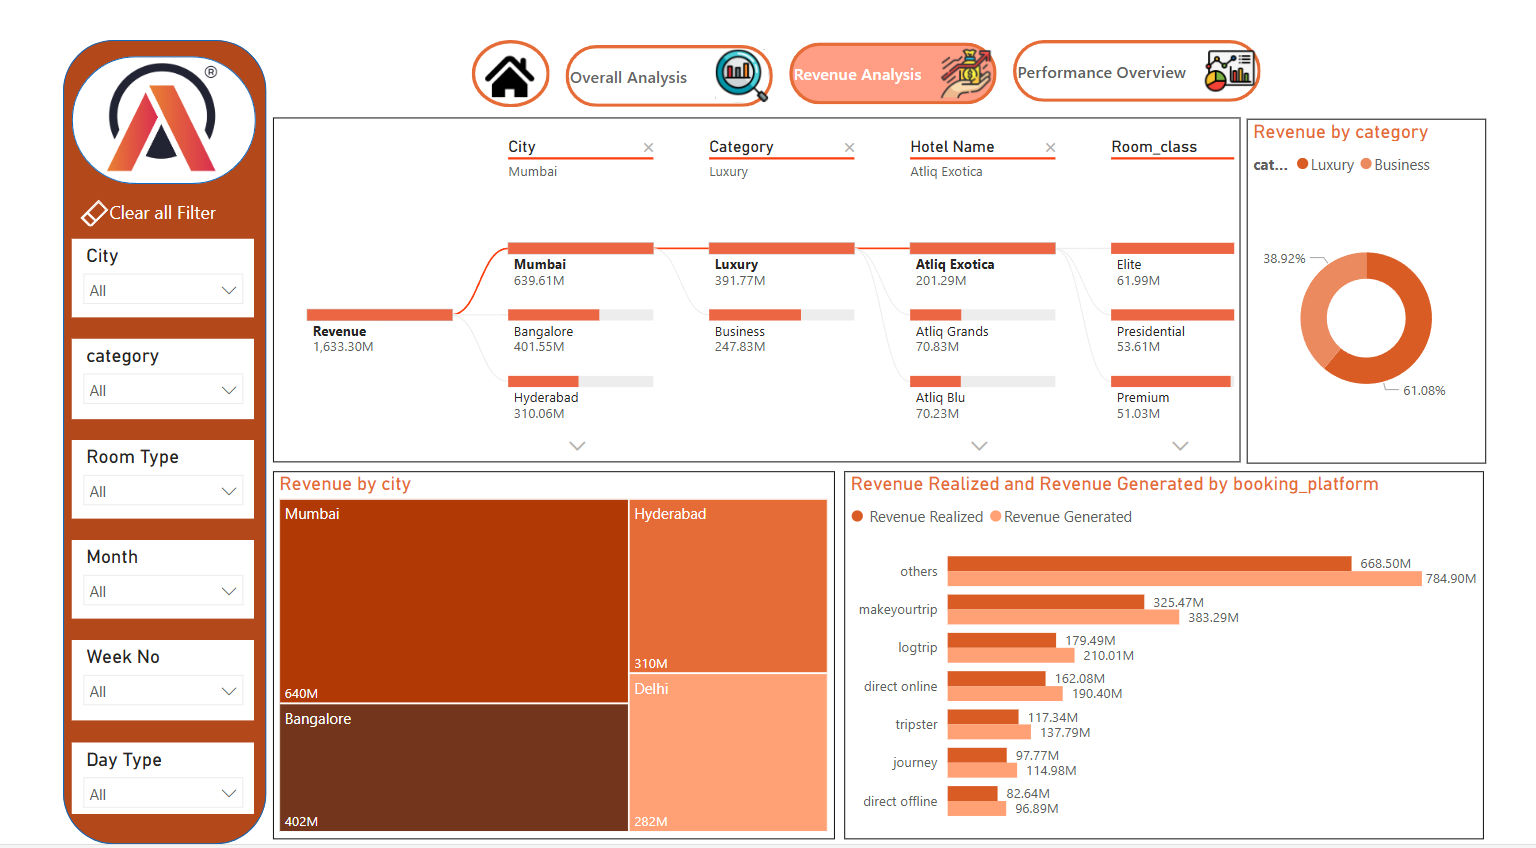

Layout of this report page (visuals, bound fields, positions):
{"tool":"powerbi","page":{"name":"Revenue analysis","canvas":[1280,720],"ordinal":2},"visuals":[{"type":"shape","box":[0,0,182.2,720.2],"z":0},{"type":"shape","box":[7.4,14.8,164.9,114.5],"z":1000},{"type":"image","box":[33.2,11.1,112,114.5],"z":2000},{"type":"slicer","fields":{"Values":["dim_date.week no"]},"box":[8.2,537.3,163.3,72.1],"z":3000},{"type":"slicer","fields":{"Values":["dim_rooms.room_class"]},"box":[8.2,358.3,163.3,70.7],"z":4000},{"type":"slicer","fields":{"Values":["dim_hotels.city"]},"box":[8.2,177.9,163.3,70.7],"z":5000},{"type":"slicer","fields":{"Values":["dim_date.mmm yy"]},"box":[8.2,447.8,163.3,70.7],"z":6000},{"type":"slicer","fields":{"Values":["dim_hotels.category"]},"box":[8.2,267.4,163.3,72.1],"z":7000},{"type":"actionButton","box":[5.4,133.3,167.3,39.5],"z":8000},{"type":"slicer","fields":{"Values":["dim_date.Day_Type"]},"box":[8.2,628.6,163.3,63.9],"z":9000},{"type":"actionButton","title":"H","box":[365.6,0,70,60.3],"z":10000},{"type":"actionButton","box":[450,4.8,185.8,55.5],"z":11000},{"type":"actionButton","box":[650.3,2.4,185.8,55.5],"z":12000},{"type":"actionButton","box":[850.5,0,222,55.5],"z":13000},{"type":"decompositionTreeVisual","fields":{"Analyze":["Key_measures.Revenue"],"ExplainBy":["dim_hotels.city","dim_hotels.category","dim_hotels.property_name","dim_rooms.room_class"]},"box":[187.8,69.4,866.7,308.8],"z":14000},{"type":"donutChart","fields":{"Y":["Key_measures.Revenue"],"Category":["dim_hotels.category"]},"box":[1060.5,70,214.7,308.8],"z":15000},{"type":"treemap","fields":{"Group":["dim_hotels.city"],"Values":["Key_measures.Revenue"]},"box":[188.2,386.1,503.1,329.4],"z":16000},{"type":"clusteredBarChart","fields":{"Y":["Sum(fact_bookings.revenue_realized)","Sum(fact_bookings.revenue_generated)"],"Category":["fact_bookings.booking_platform"]},"box":[699.3,386.4,572.8,329.3],"z":17000}]}

Visuals, with their boxes in screenshot pixels (x1, y1, x2, y2), scaled from the page's 1280x720 canvas onto the 1536x848 screenshot:
shape: left=0, top=0, right=219, bottom=847
shape: left=9, top=17, right=207, bottom=152
image: left=40, top=13, right=174, bottom=148
slicer - dim_date.week no: left=10, top=633, right=206, bottom=718
slicer - dim_rooms.room_class: left=10, top=422, right=206, bottom=505
slicer - dim_hotels.city: left=10, top=210, right=206, bottom=293
slicer - dim_date.mmm yy: left=10, top=527, right=206, bottom=611
slicer - dim_hotels.category: left=10, top=315, right=206, bottom=400
actionButton: left=6, top=157, right=207, bottom=204
slicer - dim_date.Day_Type: left=10, top=740, right=206, bottom=816
"H" actionButton: left=439, top=0, right=523, bottom=71
actionButton: left=540, top=6, right=763, bottom=71
actionButton: left=780, top=3, right=1003, bottom=68
actionButton: left=1021, top=0, right=1287, bottom=65
decompositionTreeVisual - Key_measures.Revenue x dim_hotels.city: left=225, top=82, right=1265, bottom=445
donutChart - Key_measures.Revenue x dim_hotels.category: left=1273, top=82, right=1530, bottom=446
treemap - dim_hotels.city x Key_measures.Revenue: left=226, top=455, right=830, bottom=843
clusteredBarChart - Sum(fact_bookings.revenue_realized) x Sum(fact_bookings.revenue_generated): left=839, top=455, right=1527, bottom=843
